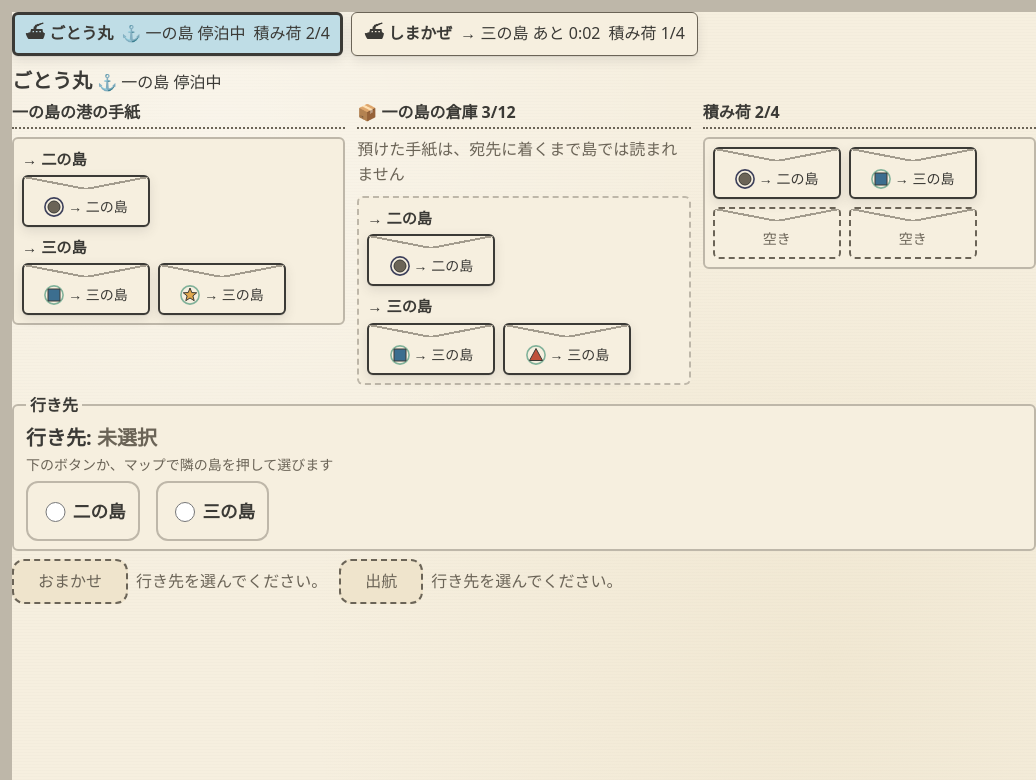
中継倉庫の区画（T-722） › FP-R3 倉庫の手紙を押すと cmd.relay.load を送り、ok で「倉庫の手紙を積みました。」
Click the button "→ 二の島" below "預けた手紙は、宛先に着くまで島では読まれません". click: [431, 260]
box: [367,234,495,286]
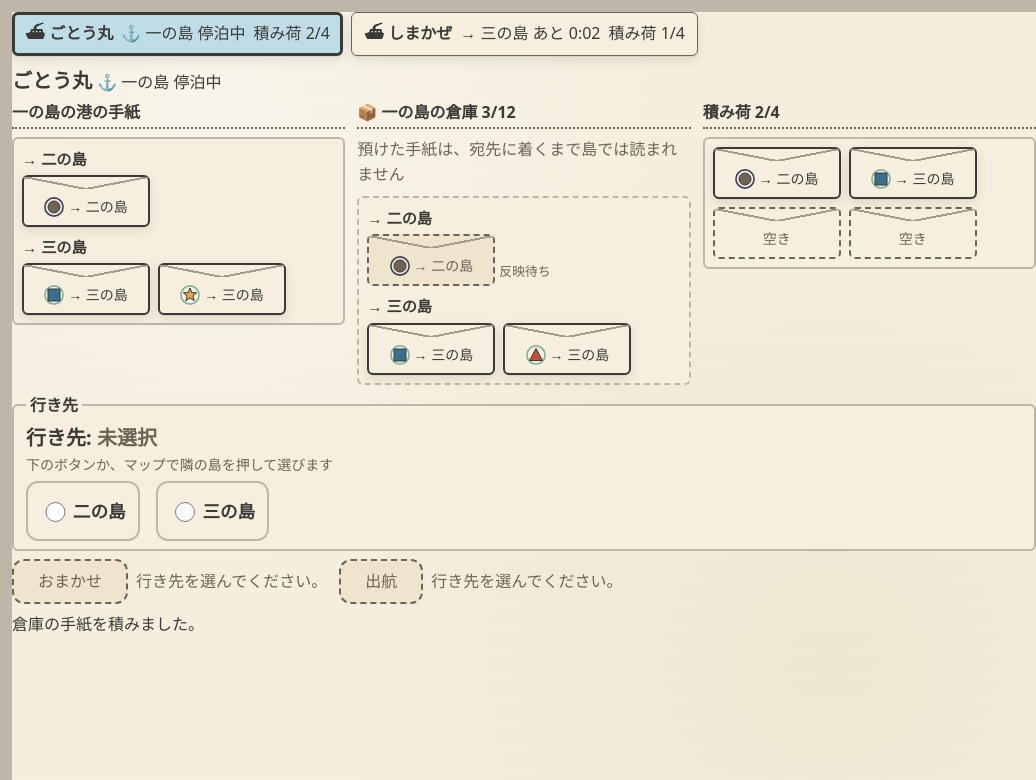
Expected: the message with class "ferry-panel__status" reads "倉庫の手紙を積みました。", [12,613,204,635]
Expected: the text "反映待ち" is shown, [499,262,550,280]
